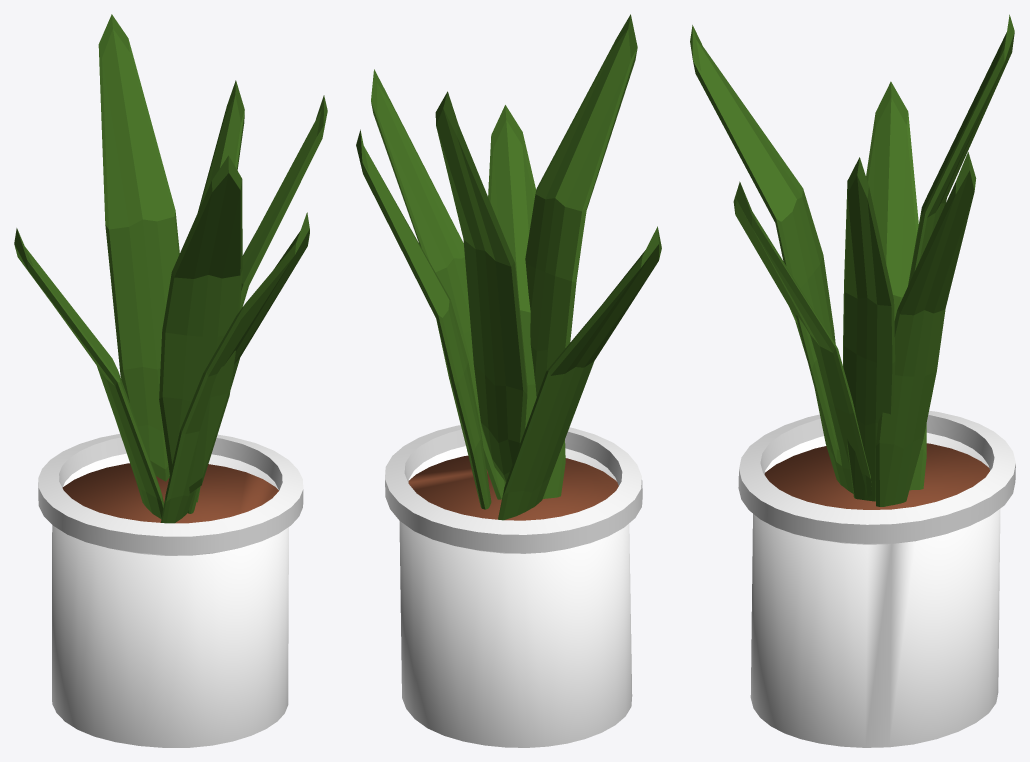
File: tanaman hias 1.fbx
The picture shows the model from 3 angles, left to right: view 1: azimuth 30°, elevation 25°; view 2: azimuth 150°, elevation 25°; view 3: azimuth 270°, elevation 25°; orthographic projection. The views are drawn at different scales.
Visible parts, largest first — view 1: Plane.002, flowerpot.002; view 2: Plane.002, flowerpot.002; view 3: Plane.002, flowerpot.002.
Part boxes in pixels (bbox=[...]): Plane.002: bbox=[38, 433, 303, 747]; flowerpot.002: bbox=[14, 14, 327, 523]; Plane.002: bbox=[385, 425, 642, 747]; flowerpot.002: bbox=[356, 14, 661, 520]; Plane.002: bbox=[738, 410, 1015, 747]; flowerpot.002: bbox=[690, 14, 1014, 506].
Size of the model in its own units: 58.68 by 121 by 52.07.
